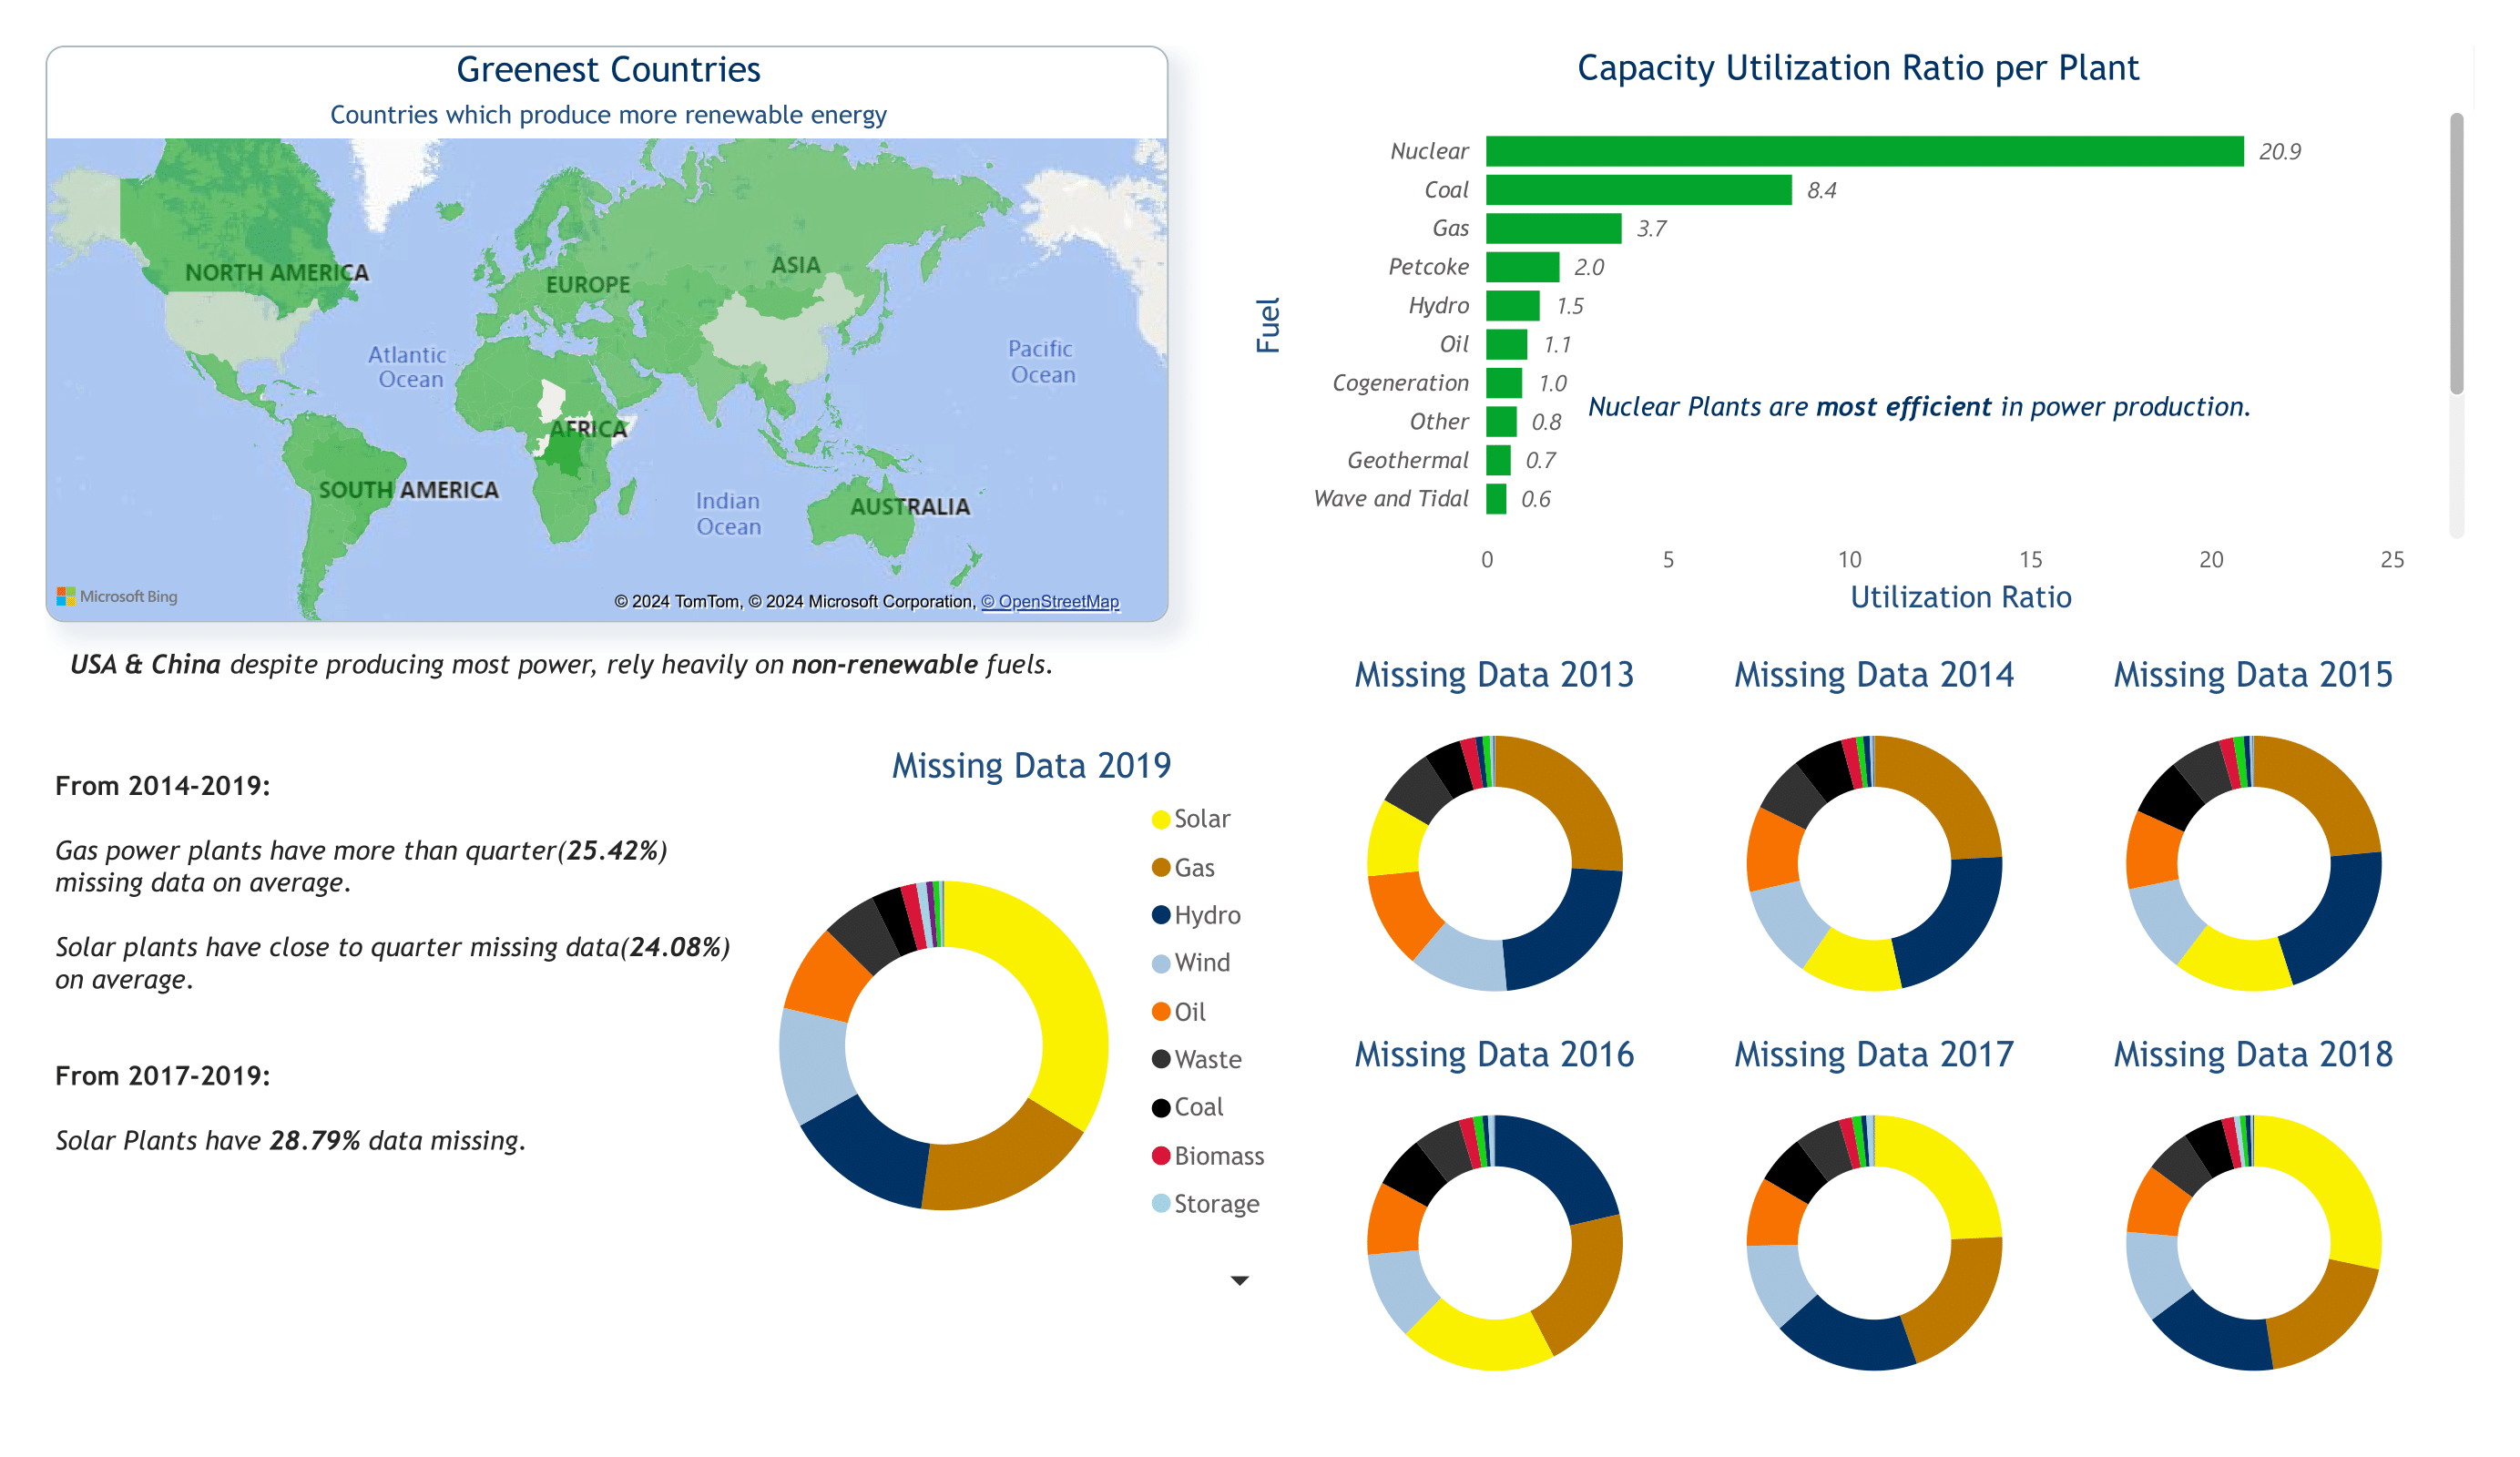

This screenshot's page, from the dashboard's own definition file:
{"tool":"powerbi","page":{"name":"Page 1","canvas":[1280,720],"ordinal":0},"visuals":[{"type":"filledMap","title":"Greenest Countries","fields":{"Category":["power_plant country_capacity_balance.country_long"]},"box":[0,0,592,400],"z":0},{"type":"clusteredColumnChart","title":"Fuel Efficiency","fields":{"Category":["power_plant fuel_efficiency.primary_fuel"],"Y":["Sum(power_plant fuel_efficiency.fuel_efficiency)"]},"box":[592,0,608,400],"z":1000},{"type":"donutChart","title":"Missing Data 2013","fields":{"Category":["power_plant missing_data_2013.primary_fuel"],"Y":["Sum(power_plant missing_data_2013.missing_count)"]},"box":[528,400,224,160],"z":3000},{"type":"donutChart","title":"Missing Data 2015","fields":{"Category":["power_plant missing_data_2015.primary_fuel"],"Y":["Sum(power_plant missing_data_2015.missing_count)"]},"box":[976,400,240,160],"z":4000},{"type":"donutChart","title":"Missing Data 2014","fields":{"Y":["Sum(power_plant missing_data_2014.missing_count)"],"Category":["power_plant missing_data_2014.primary_fuel"]},"box":[752,400,224,160],"z":5000},{"type":"donutChart","title":"Missing Data 2016","fields":{"Category":["power_plant missing_data_2016.primary_fuel"],"Y":["Sum(power_plant missing_data_2016.missing_count)"]},"box":[528,560,224,144],"z":6000},{"type":"donutChart","title":"Missing Data 2017","fields":{"Category":["power_plant missing_data_2017.primary_fuel"],"Y":["Sum(power_plant missing_data_2017.missing_count)"]},"box":[992,560,224,160],"z":6001},{"type":"donutChart","title":"Missing Data 2018","fields":{"Category":["power_plant missing_data_2018.primary_fuel"],"Y":["Sum(power_plant missing_data_2018.missing_count)"]},"box":[768,560,208,144],"z":6002},{"type":"donutChart","title":"Missing Data 2019","fields":{"Category":["power_plant missing_data_2019.primary_fuel"],"Y":["Sum(power_plant missing_data_2019.missing_count)"]},"box":[0,400,528,320],"z":6003}]}

Visuals, with their boxes on the page's 1280x720 design canvas (x1, y1, x2, y2). These are canvas units, not pixel positions in the 2520x1457 screenshot, which may show the page scaled, cropped or inside an application window:
"Greenest Countries" filledMap: box(0, 0, 592, 400)
"Fuel Efficiency" clusteredColumnChart: box(592, 0, 1200, 400)
"Missing Data 2013" donutChart: box(528, 400, 752, 560)
"Missing Data 2015" donutChart: box(976, 400, 1216, 560)
"Missing Data 2014" donutChart: box(752, 400, 976, 560)
"Missing Data 2016" donutChart: box(528, 560, 752, 704)
"Missing Data 2017" donutChart: box(992, 560, 1216, 720)
"Missing Data 2018" donutChart: box(768, 560, 976, 704)
"Missing Data 2019" donutChart: box(0, 400, 528, 720)
